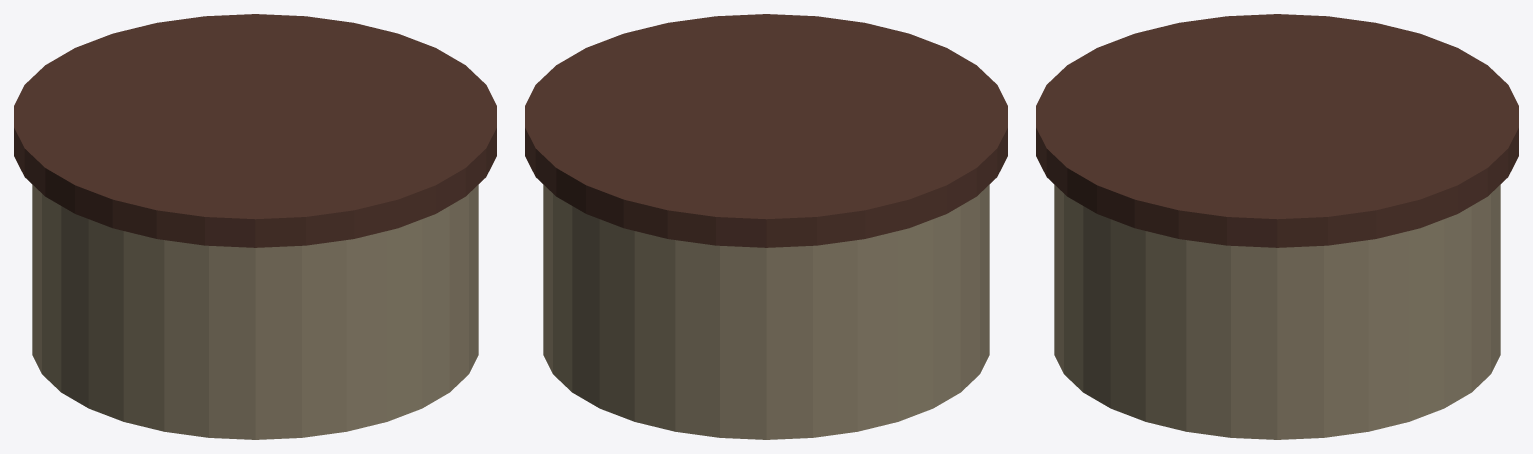
Rendered from ceilingLamp70s.fbx.
The picture shows the model from 3 angles, left to right: view 1: azimuth 30°, elevation 25°; view 2: azimuth 150°, elevation 25°; view 3: azimuth 270°, elevation 25°; orthographic projection.
Visible parts, largest first — view 1: pCylinder1; view 2: pCylinder1; view 3: pCylinder1.
Part boxes in pixels (x1,y1,x2,y2): pCylinder1: (14, 14, 496, 439); pCylinder1: (525, 14, 1007, 439); pCylinder1: (1036, 14, 1518, 439).
Bounding box in the file's own units: 1.56 × 0.8406 × 1.55.
